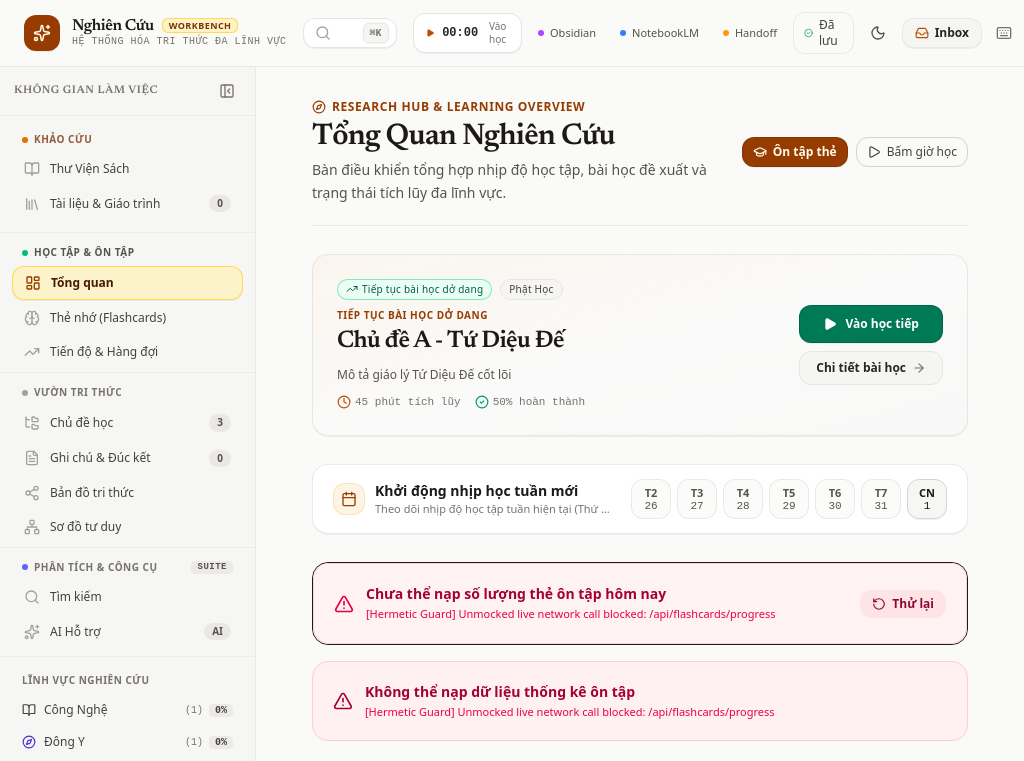
Test case: Sidebar Category Navigation Integration Tests (Test-First) › Scenario 4: Chọn lĩnh vực từ tab khác
Expected: the heading "Tổng Quan Nghiên Cứu" is shown, [312,119,615,155]
Click the button "Công Nghệ (1) 0%": (128, 710) [12,696,243,724]
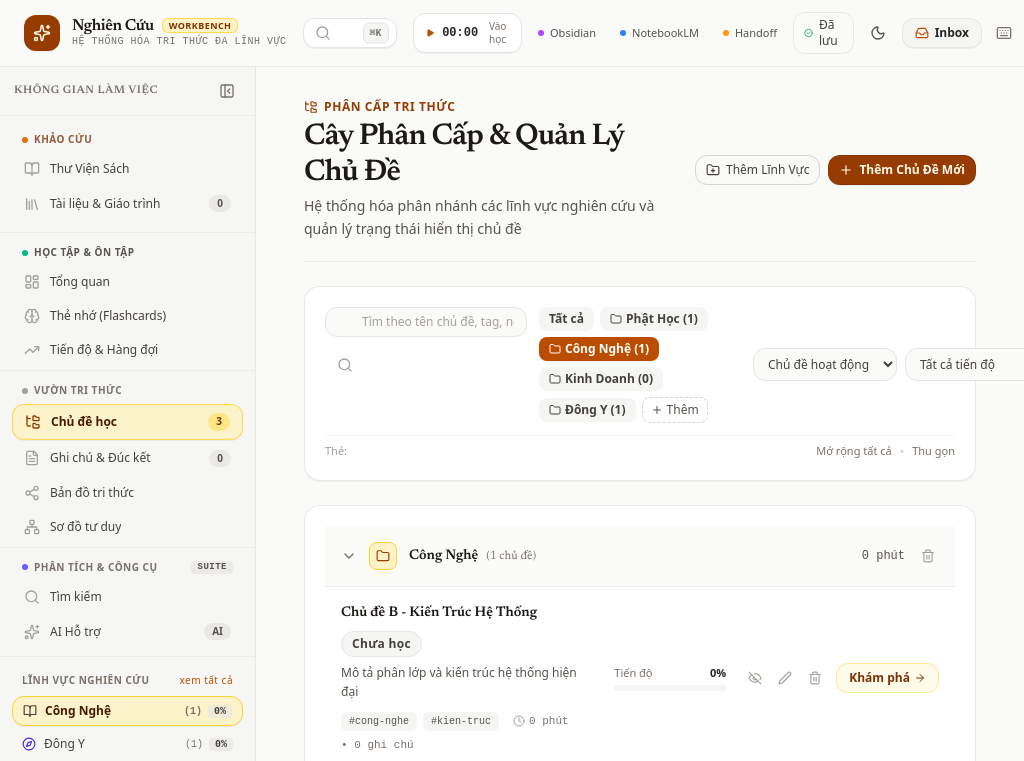
Expected: the heading "Chủ đề B - Kiến Trúc Hệ Thống" is shown, [341,602,537,622]
Now the heading "Cây Phân Cấp & Quản Lý Chủ Đề" is shown, box [304,119,679,191]
Now the heading "Chủ đề A - Tứ Diệu Đế" is gone
